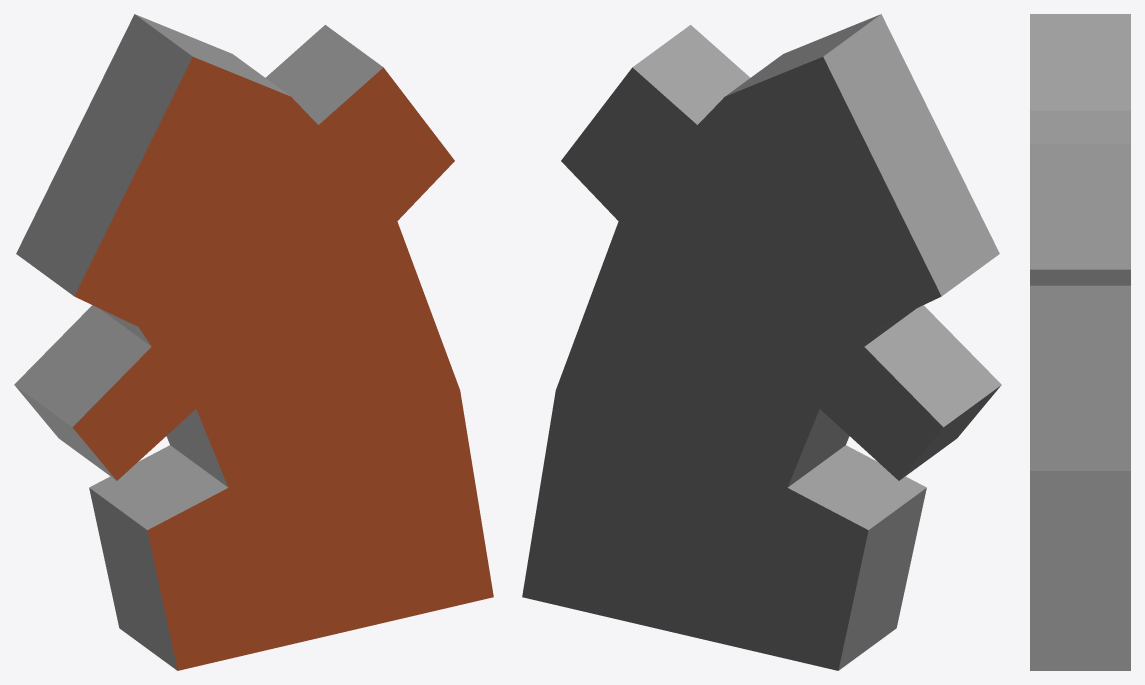
File: construction_3570_assumed_A_Casa_h6m.obj
3 views of the same model, side by side, from view 1: azimuth 30°, elevation 25°; view 2: azimuth 150°, elevation 25°; view 3: azimuth 270°, elevation 25° (orthographic). The views are drawn at different scales.
Parts seen in each view (by area): view 1: construction_3570_assumed_A_Casa; view 2: construction_3570_assumed_A_Casa; view 3: construction_3570_assumed_A_Casa.
Part boxes in pixels (x1,y1,x2,y2): construction_3570_assumed_A_Casa: [14, 14, 493, 670]; construction_3570_assumed_A_Casa: [522, 14, 1001, 670]; construction_3570_assumed_A_Casa: [1030, 14, 1130, 670].
Size of the model in its own units: 25.04 by 34.85 by 6.
